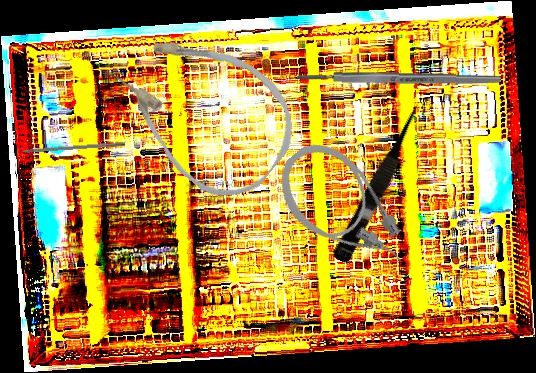Cannula: (94, 3, 316, 217), (263, 128, 423, 295)
Hook Surgical: (5, 140, 126, 155)
Micro Scissor: (331, 98, 432, 267)
Scalpel Handle: (296, 70, 502, 87)
